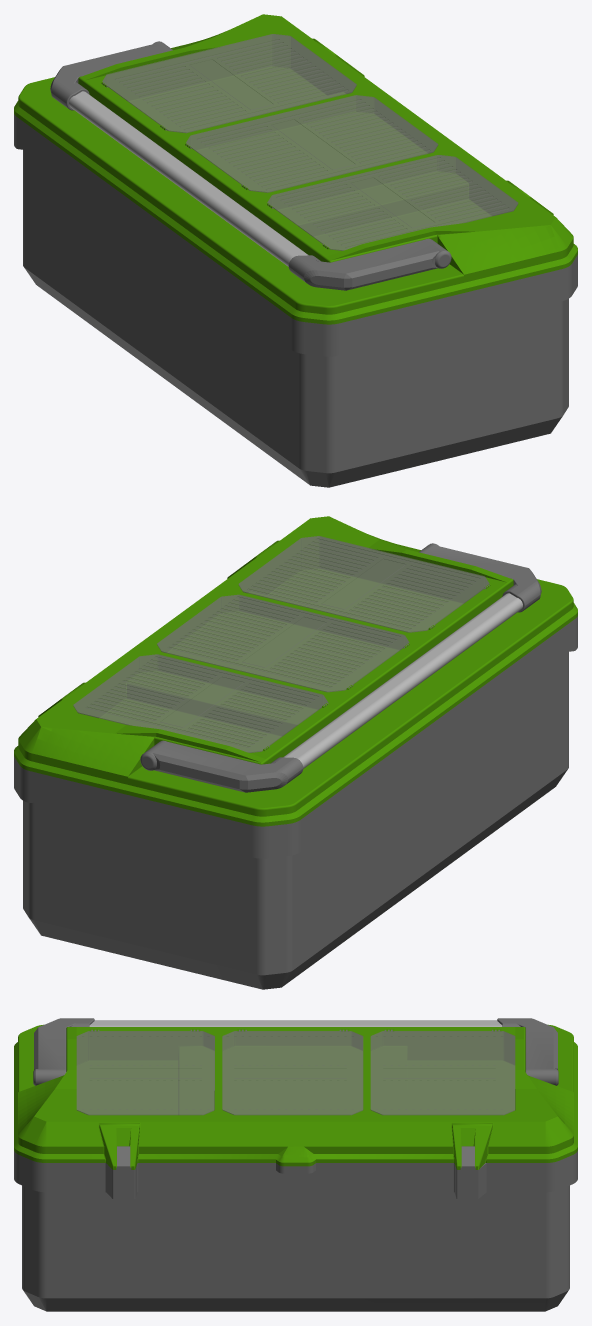
File: Toolbox.fbx
3 views of the same model, one above another, from view 1: azimuth 30°, elevation 25°; view 2: azimuth 150°, elevation 25°; view 3: azimuth 270°, elevation 25° (orthographic). The views are drawn at different scales.
Parts seen in each view (by area): view 1: SafeLoad_Max_Pro_700_Bottom, SafeLoad_Max_Pro_700_top, Clear_Plastic_Tops, Handle, Group37; view 2: SafeLoad_Max_Pro_700_Bottom, SafeLoad_Max_Pro_700_top, Clear_Plastic_Tops, Handle, Group37; view 3: SafeLoad_Max_Pro_700_Bottom, SafeLoad_Max_Pro_700_top, Clear_Plastic_Tops, Handle, Group37, Clips.
Part boxes in pixels (box(x1,y1,x2,y2)): SafeLoad_Max_Pro_700_Bottom: box(14, 114, 577, 487); SafeLoad_Max_Pro_700_top: box(14, 14, 577, 324); Clear_Plastic_Tops: box(102, 34, 518, 250); Handle: box(50, 41, 451, 290); Group37: box(69, 91, 308, 266); SafeLoad_Max_Pro_700_Bottom: box(14, 616, 577, 989); SafeLoad_Max_Pro_700_top: box(14, 516, 577, 826); Clear_Plastic_Tops: box(73, 536, 489, 752); Handle: box(140, 543, 541, 792); Group37: box(283, 593, 522, 768); SafeLoad_Max_Pro_700_Bottom: box(14, 1151, 577, 1311); SafeLoad_Max_Pro_700_top: box(14, 1024, 577, 1169); Clear_Plastic_Tops: box(76, 1031, 515, 1115); Handle: box(33, 1018, 558, 1085); Group37: box(89, 1020, 502, 1026); Clips: box(117, 1146, 474, 1198).
Bounding box in the file's own units: 39 × 26.5 × 70.
